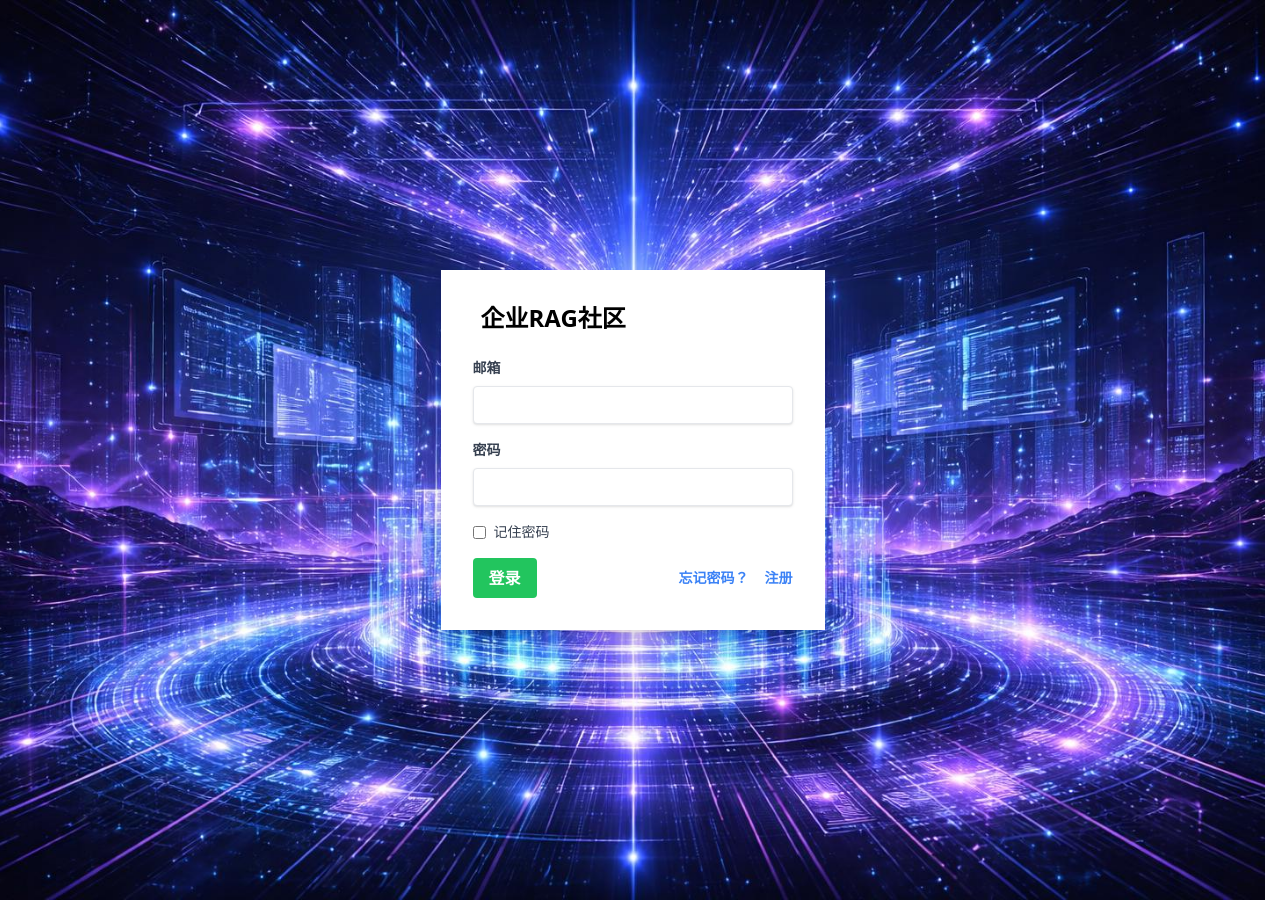
Test: Login › enters verify mode for EMAIL_NOT_VERIFIED and supports verify success
Type "verify@example.com" into the field labelled "邮箱" at (632, 405), box [472, 386, 792, 424]
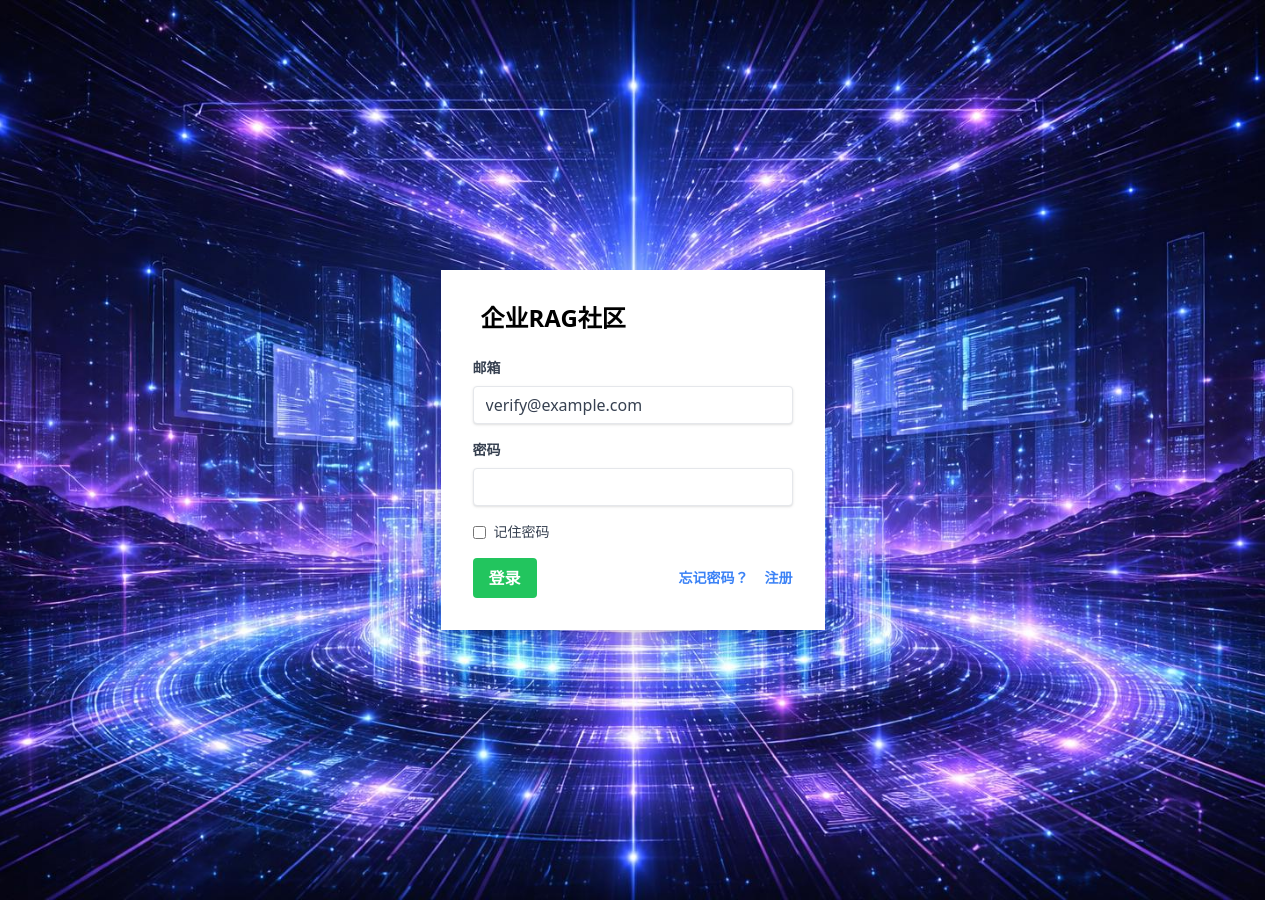
Type "123456" into the password field labelled "密码" at (632, 487), box [472, 468, 792, 506]
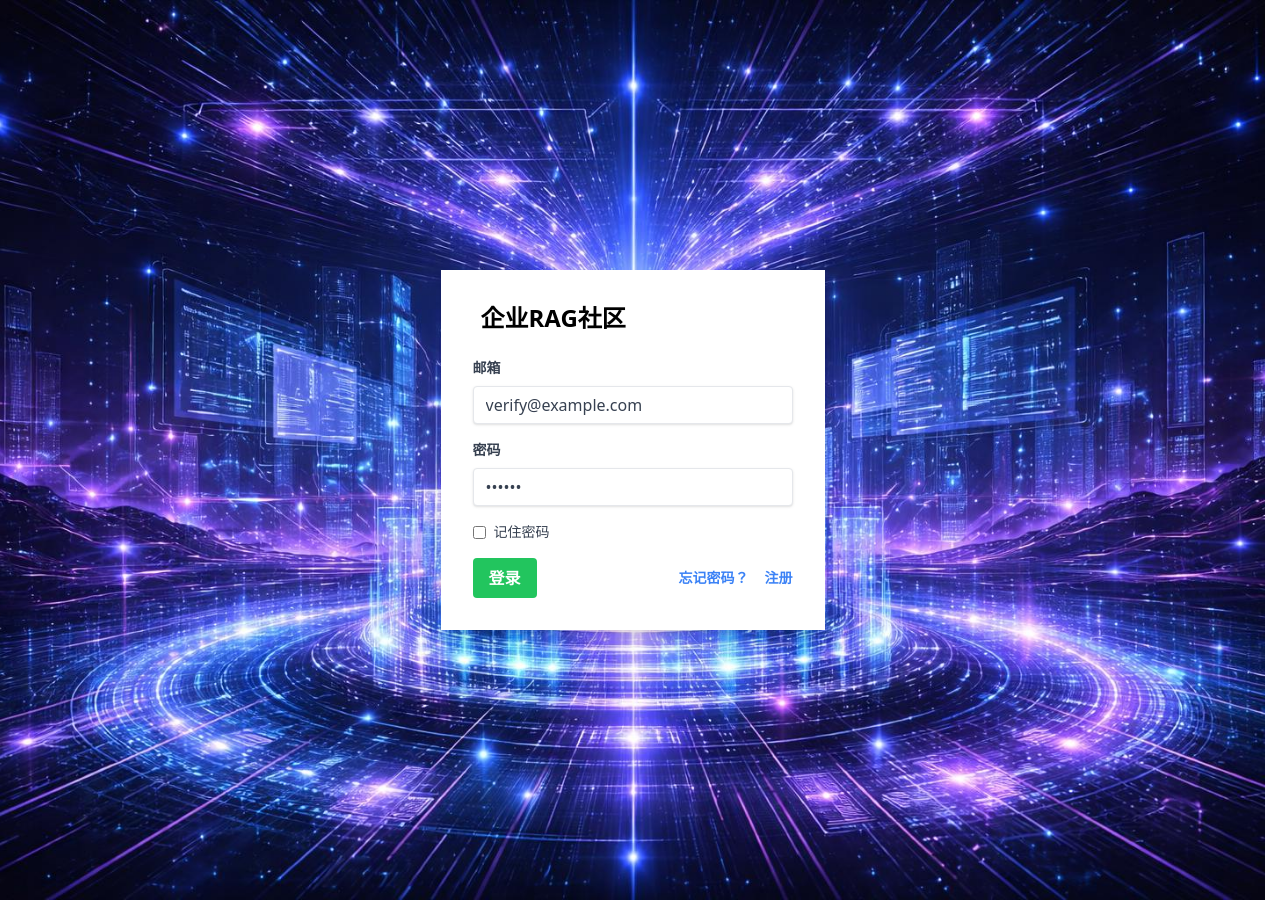
Click the button "登录" at (504, 578), box [472, 558, 536, 598]
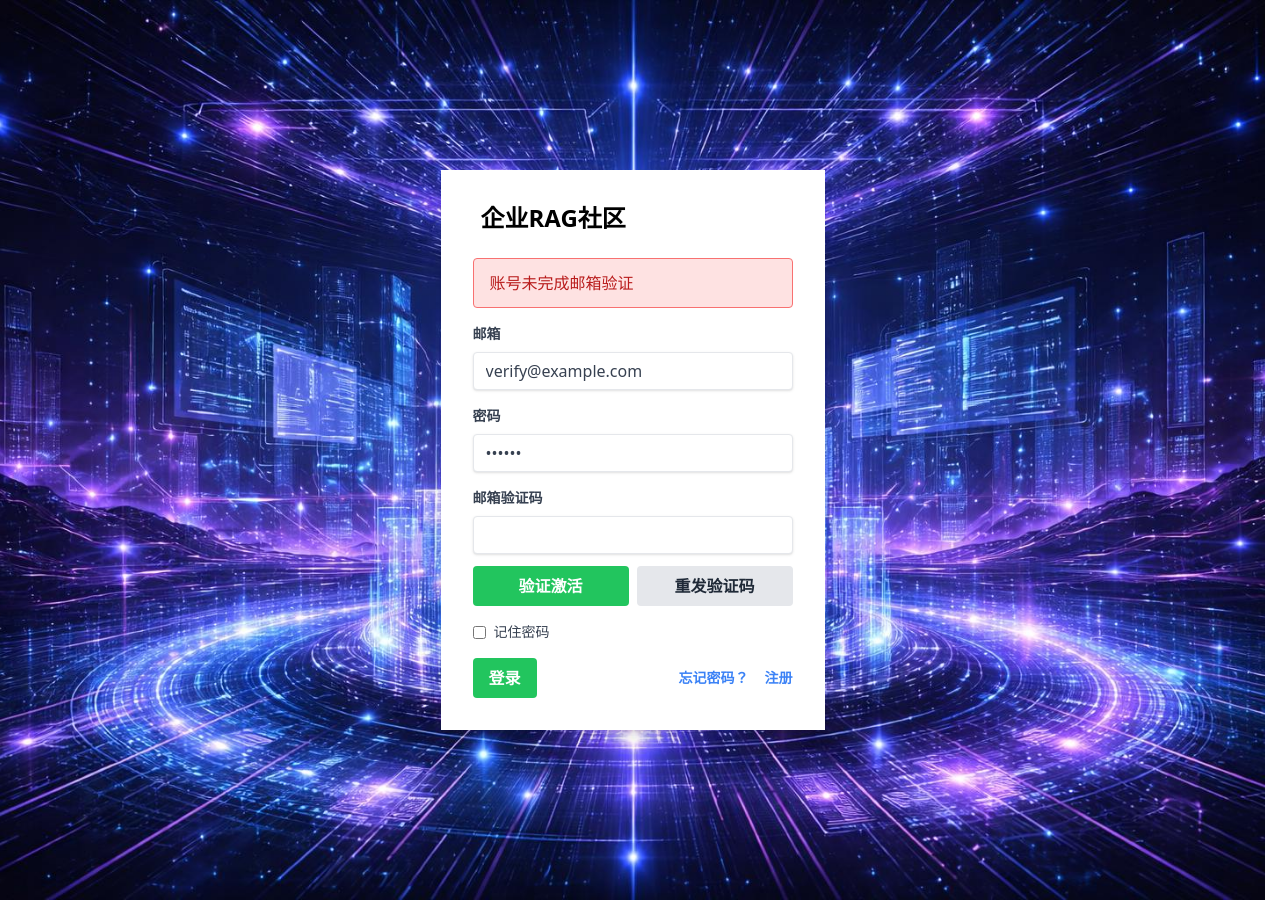
Now the text "账号未完成邮箱验证" is shown, box [472, 258, 792, 308]
Click the button "验证激活" at (550, 586), box [472, 566, 628, 606]
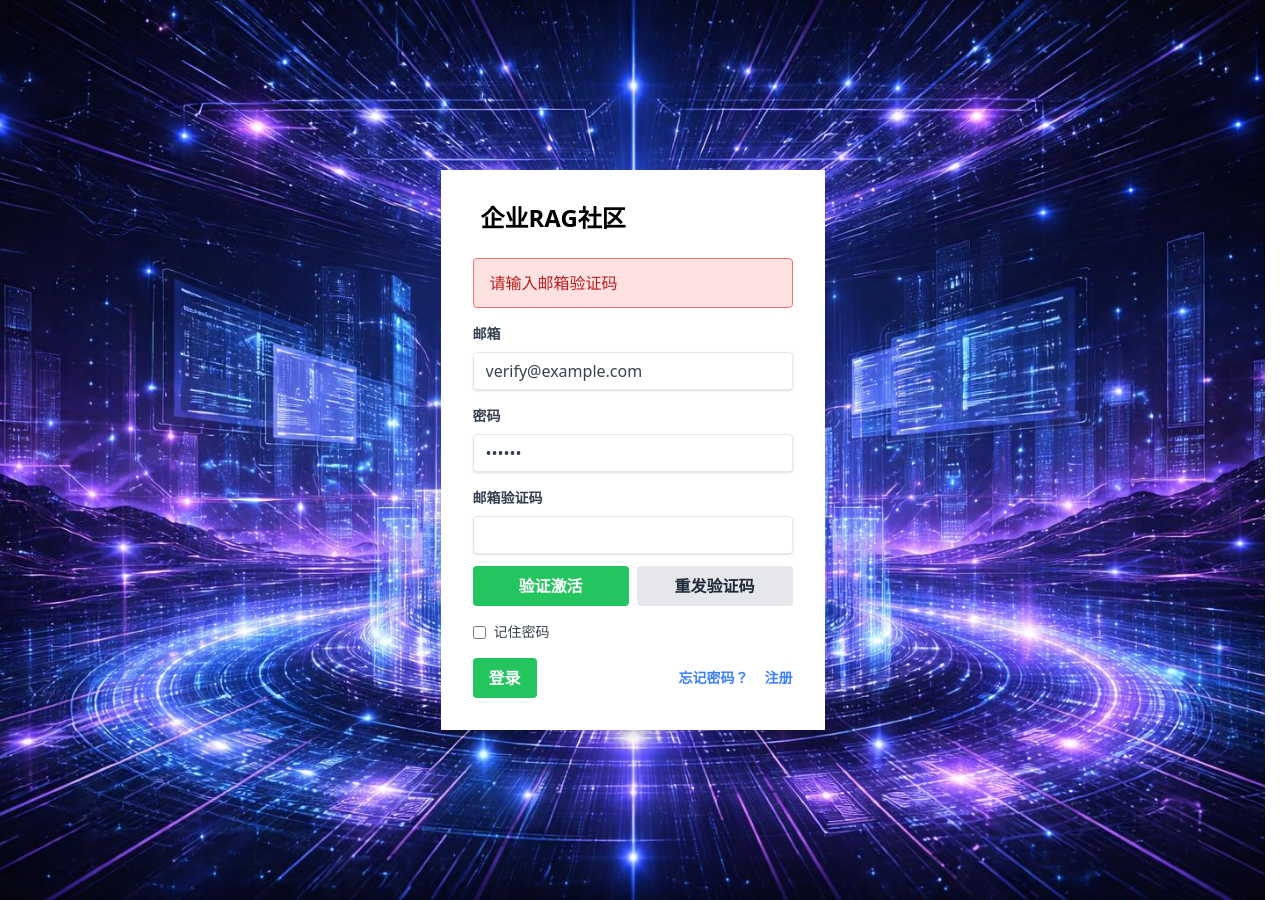
Now the text "请输入邮箱验证码" is shown, box [472, 258, 792, 308]
Type "1234" into the field labelled "邮箱验证码" at (632, 535), box [472, 516, 792, 554]
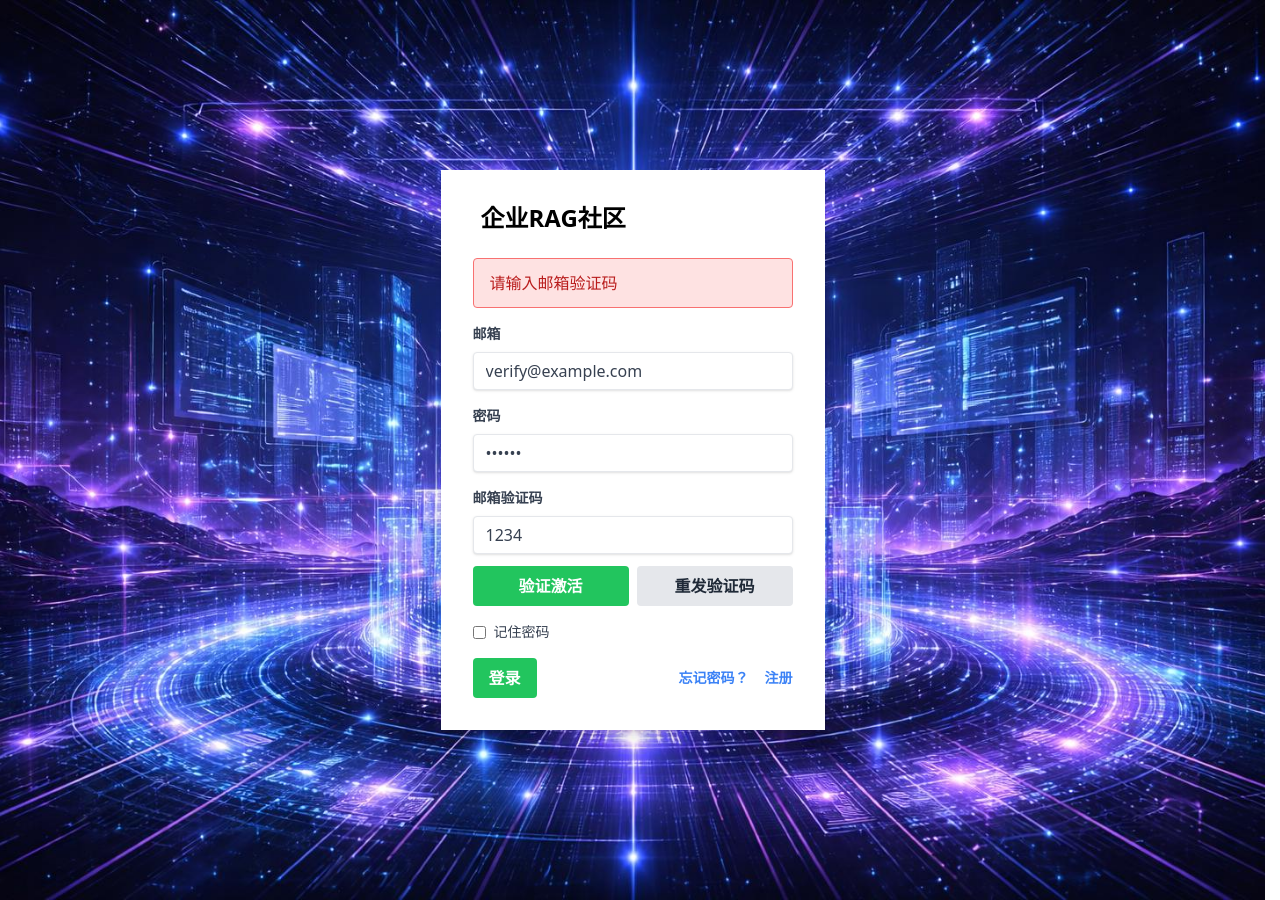
Click the button "验证激活" at (550, 586), box [472, 566, 628, 606]
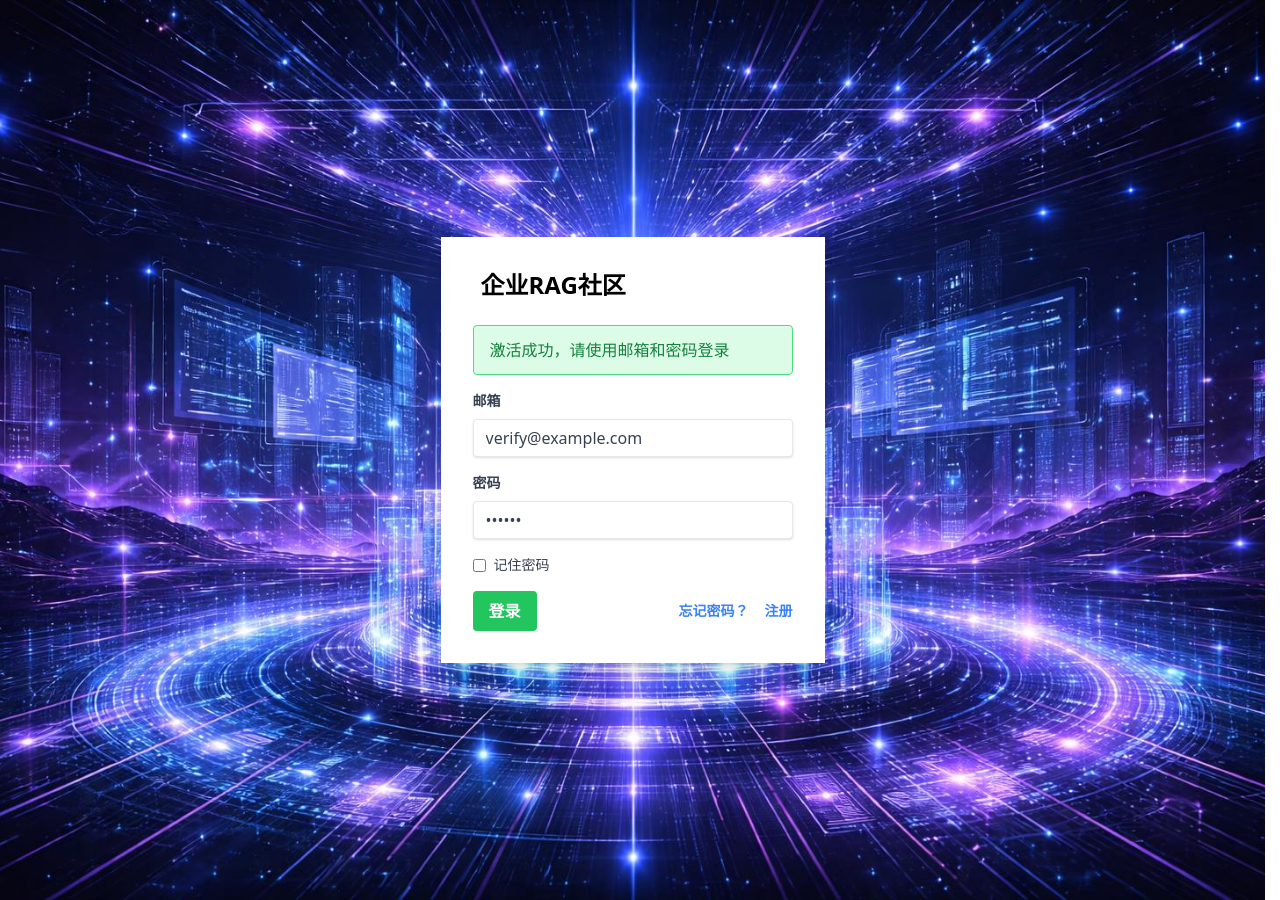
Now the text "激活成功，请使用邮箱和密码登录" is shown, box [472, 325, 792, 375]
